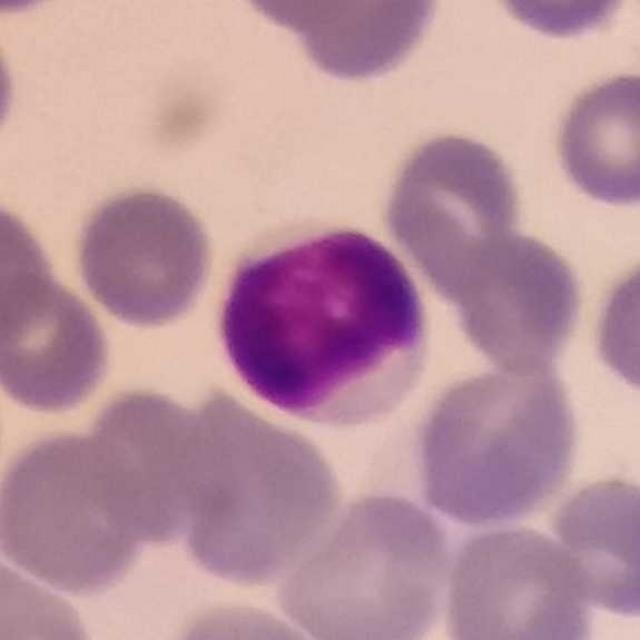Lymphocyte: (207, 217, 440, 430)
Platelets: (0, 0, 72, 21)
RBC: (166, 384, 346, 589), (408, 355, 586, 530), (272, 485, 456, 640), (0, 424, 158, 598), (72, 382, 230, 546), (378, 126, 526, 289), (70, 180, 219, 332), (443, 225, 589, 376), (438, 520, 596, 640), (0, 266, 117, 419), (542, 471, 640, 622), (278, 0, 445, 88), (547, 65, 640, 212), (0, 190, 60, 348), (0, 551, 101, 640), (585, 245, 640, 403), (155, 595, 334, 640), (479, 0, 635, 43), (217, 0, 398, 32), (0, 10, 21, 163), (0, 0, 84, 22)
